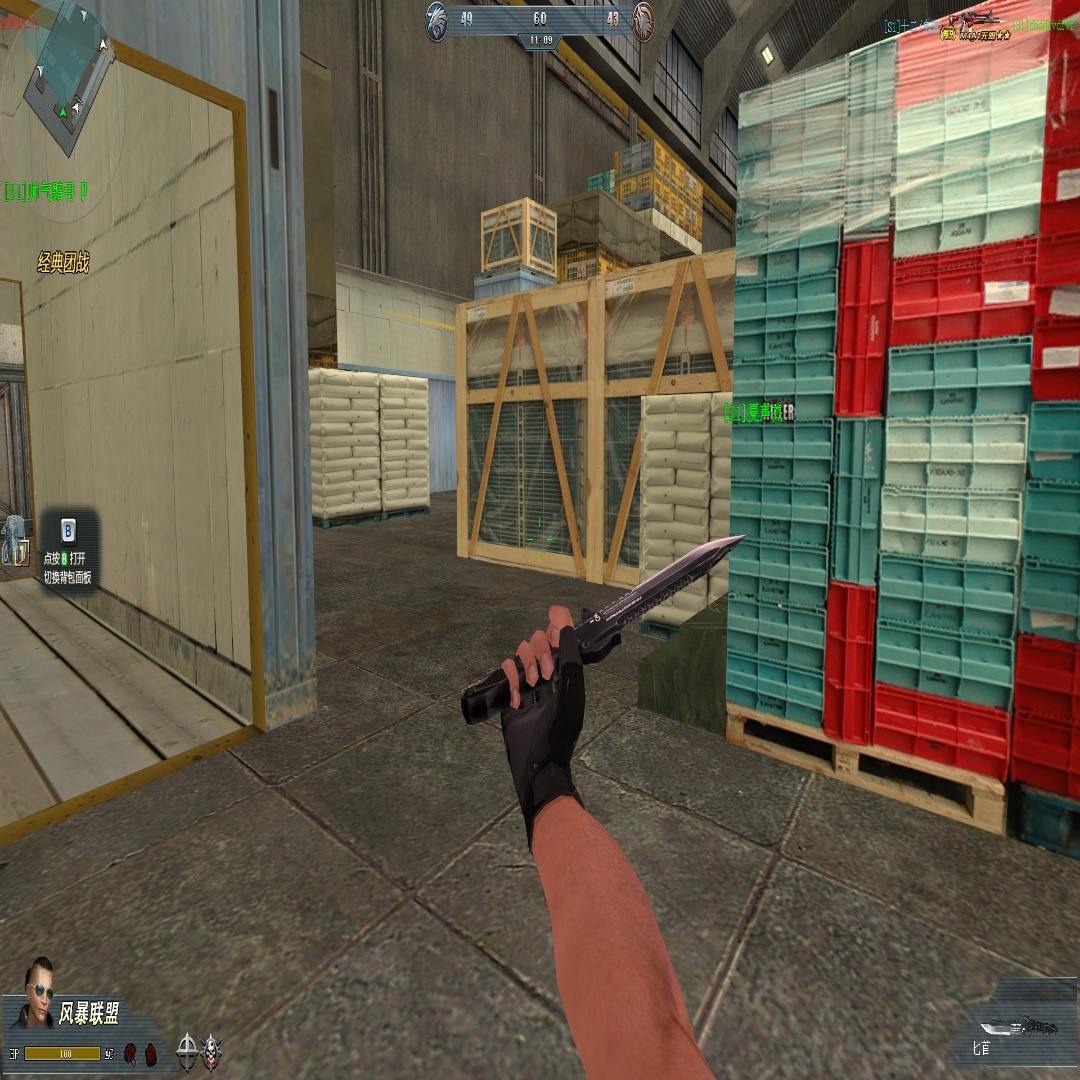ct: (11, 957, 56, 1029)
